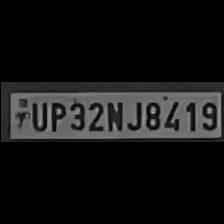1: (180, 99, 196, 131)
2: (86, 99, 104, 131)
3: (66, 99, 84, 131)
4: (162, 97, 180, 130)
8: (140, 99, 160, 131)
9: (198, 99, 218, 131)
J: (124, 97, 140, 130)
N: (104, 98, 122, 132)
P: (46, 98, 64, 132)
U: (28, 99, 44, 131)
